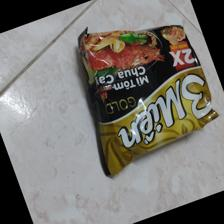3mien: (74, 24, 220, 179)
